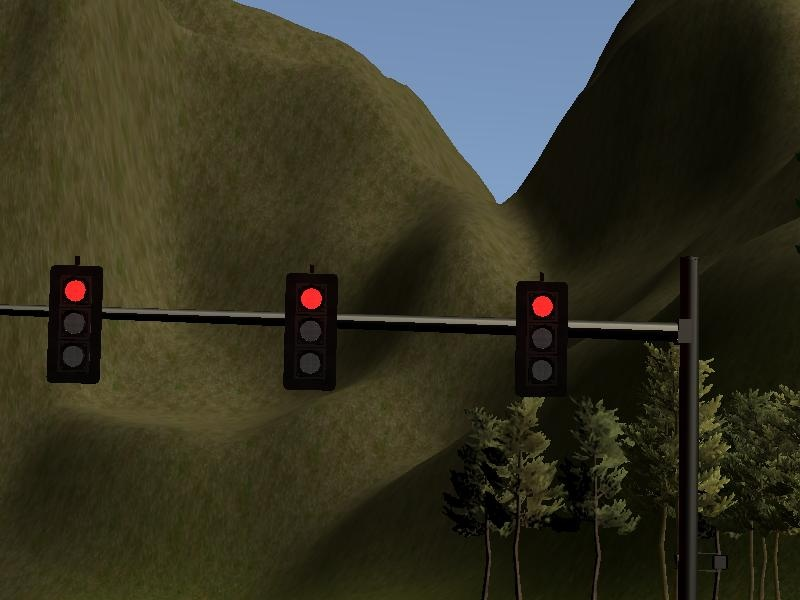red: (44, 257, 103, 389), (281, 265, 341, 394), (513, 273, 572, 403)
